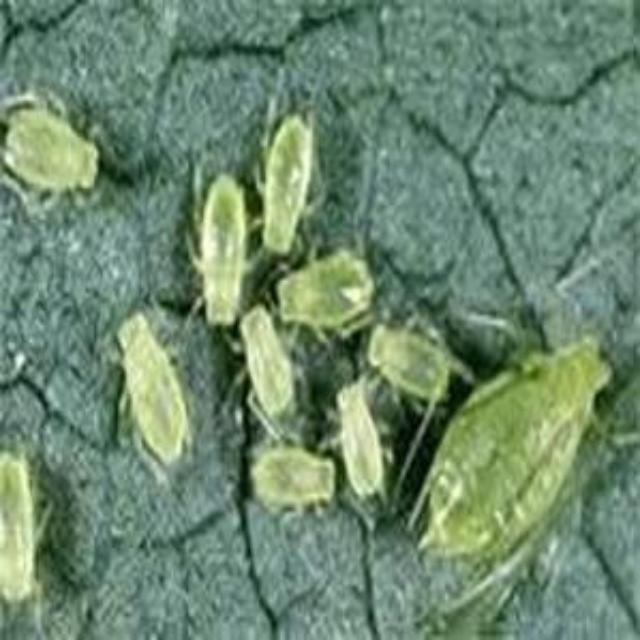Green peach aphid: (380, 296, 640, 612), (95, 322, 211, 483), (346, 291, 476, 407), (208, 308, 320, 434), (176, 178, 262, 332), (240, 107, 330, 251), (316, 374, 406, 512), (258, 251, 392, 343), (211, 424, 333, 524), (0, 104, 112, 210), (0, 448, 64, 614)
